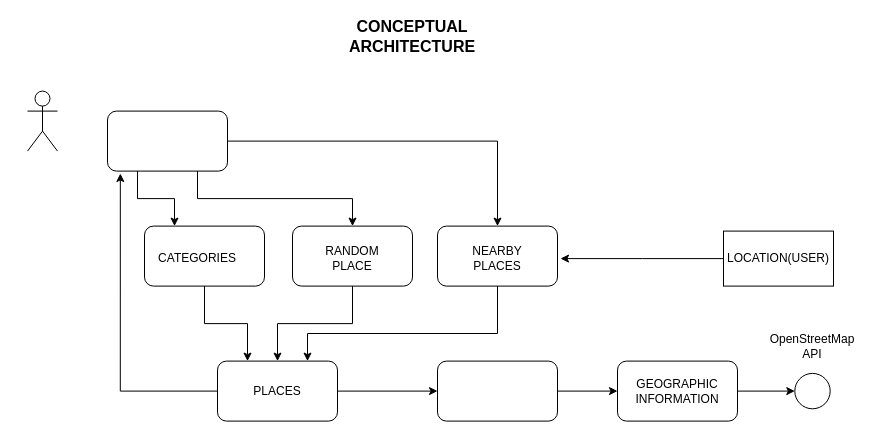
Image size: 872x439. Some labels were removed from this diagram. The shapes that lost their labels are listed below. From the top down, each one's centre as x and y in pixels, then its label:
point 42,120: USER
point 167,140: APP UI
point 497,390: DATABASE
